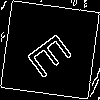E: (25, 25, 82, 80)
